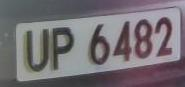2: (153, 12, 176, 64)
4: (110, 15, 134, 71)
6: (86, 18, 114, 72)
8: (133, 14, 156, 67)
P: (48, 23, 79, 74)
U: (22, 25, 53, 75)
